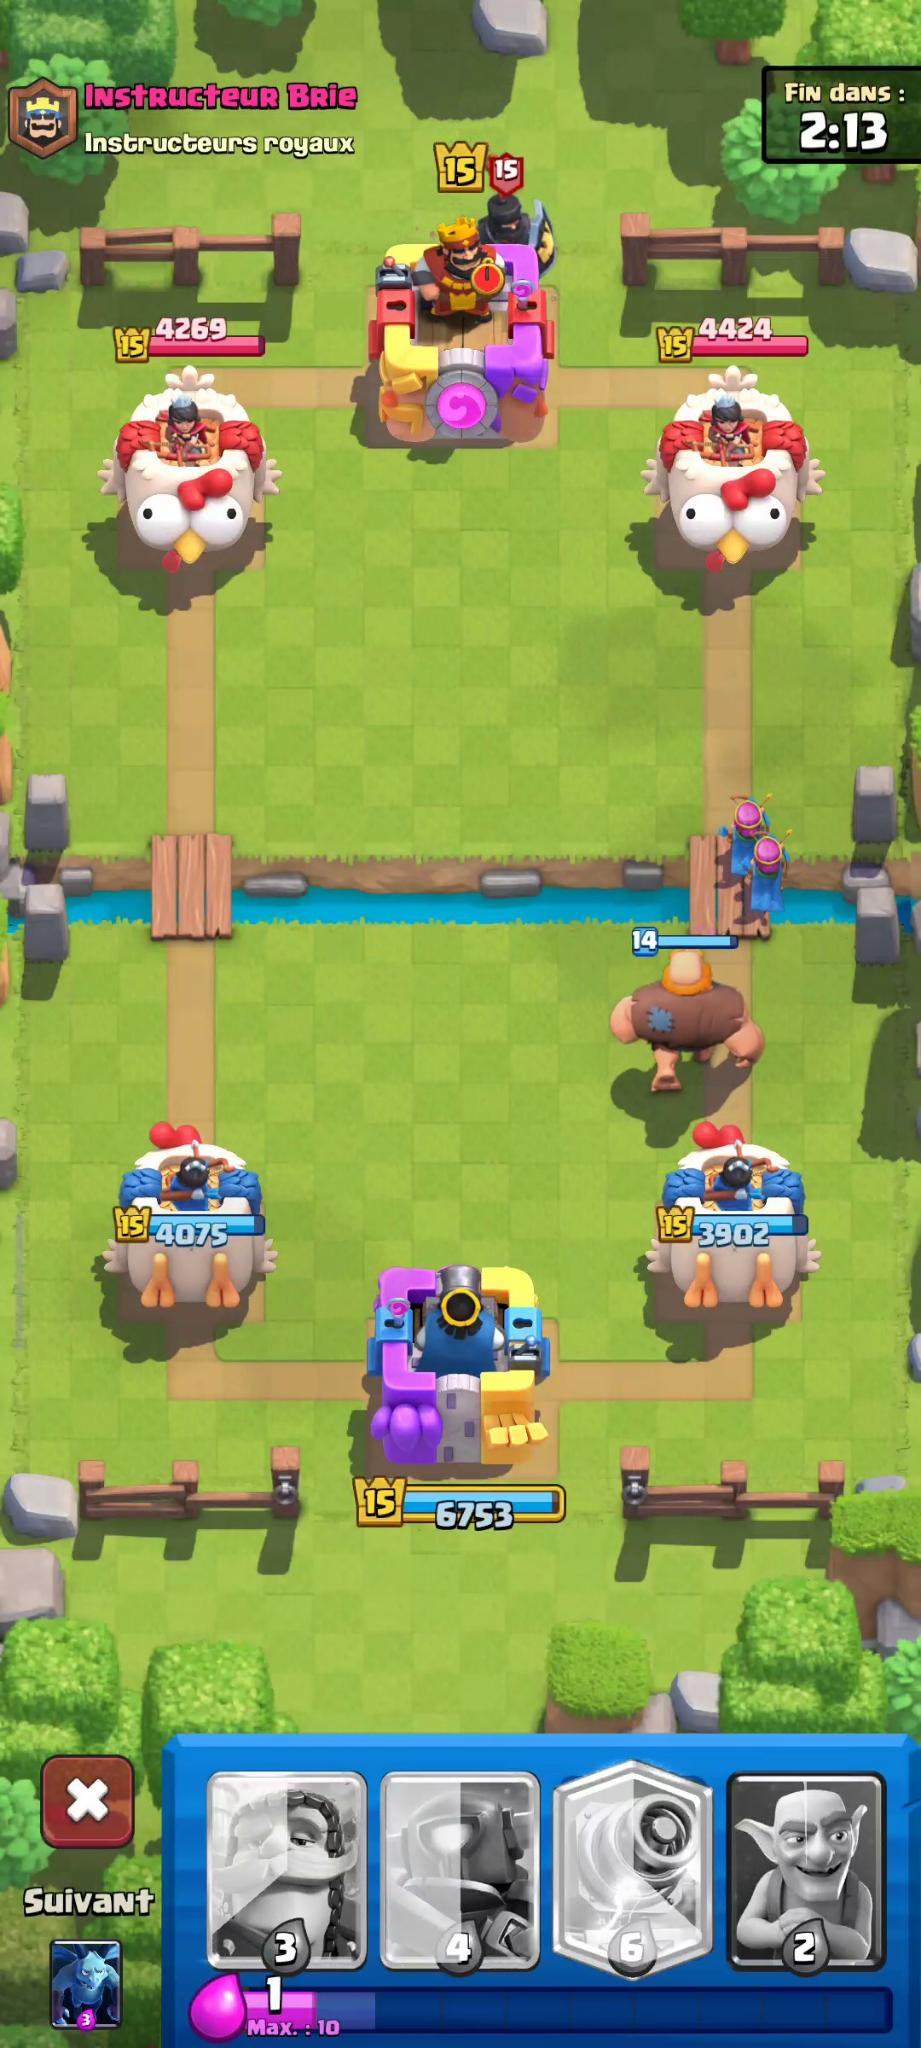archere: (742, 833, 796, 917), (724, 780, 767, 878)
geant: (610, 936, 773, 1112)
